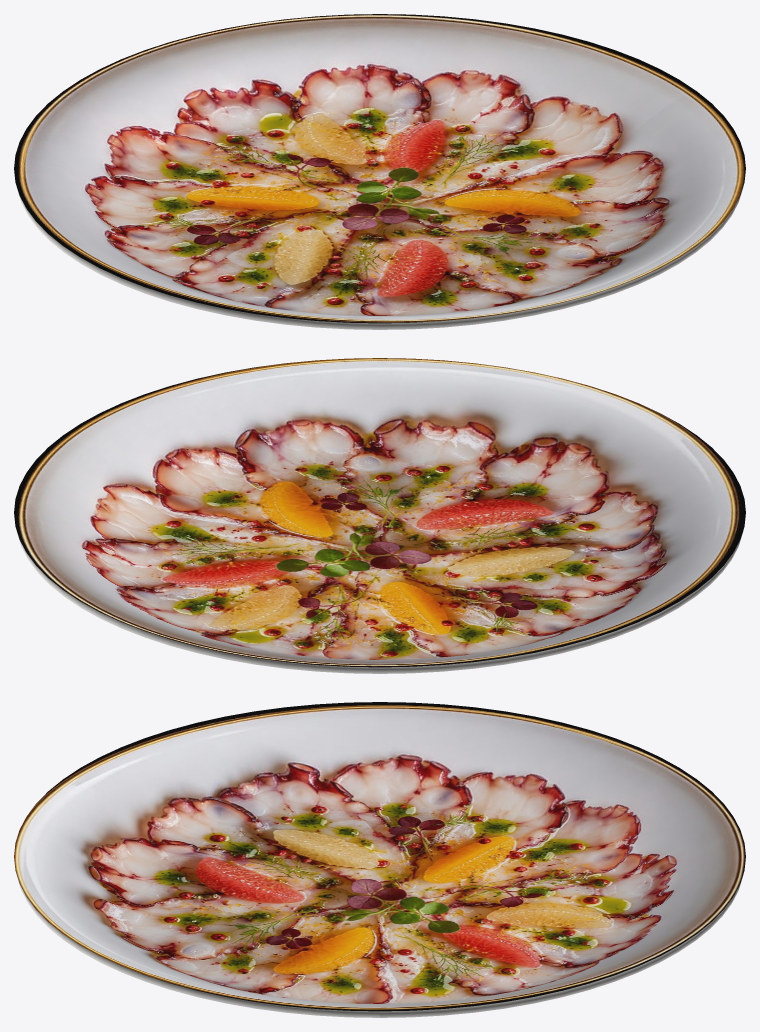
The model's file is carpaccio-polvo.glb.
3 renders of one model, top to bottom at view 1: azimuth 30°, elevation 25°; view 2: azimuth 150°, elevation 25°; view 3: azimuth 270°, elevation 25°, orthographic.
Visible parts, largest first — view 1: dish; view 2: dish; view 3: dish.
Part boxes in pixels (<box>): dish: <box>14,14,745,329</box>; dish: <box>14,358,745,673</box>; dish: <box>14,702,745,1017</box>.
Bounding box in the file's own units: 0.27 × 0.025 × 0.27.
2 materials, 1 textured.
